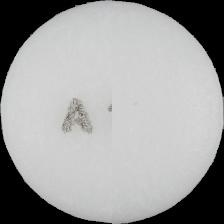0615-7915: (0, 0, 224, 224)
